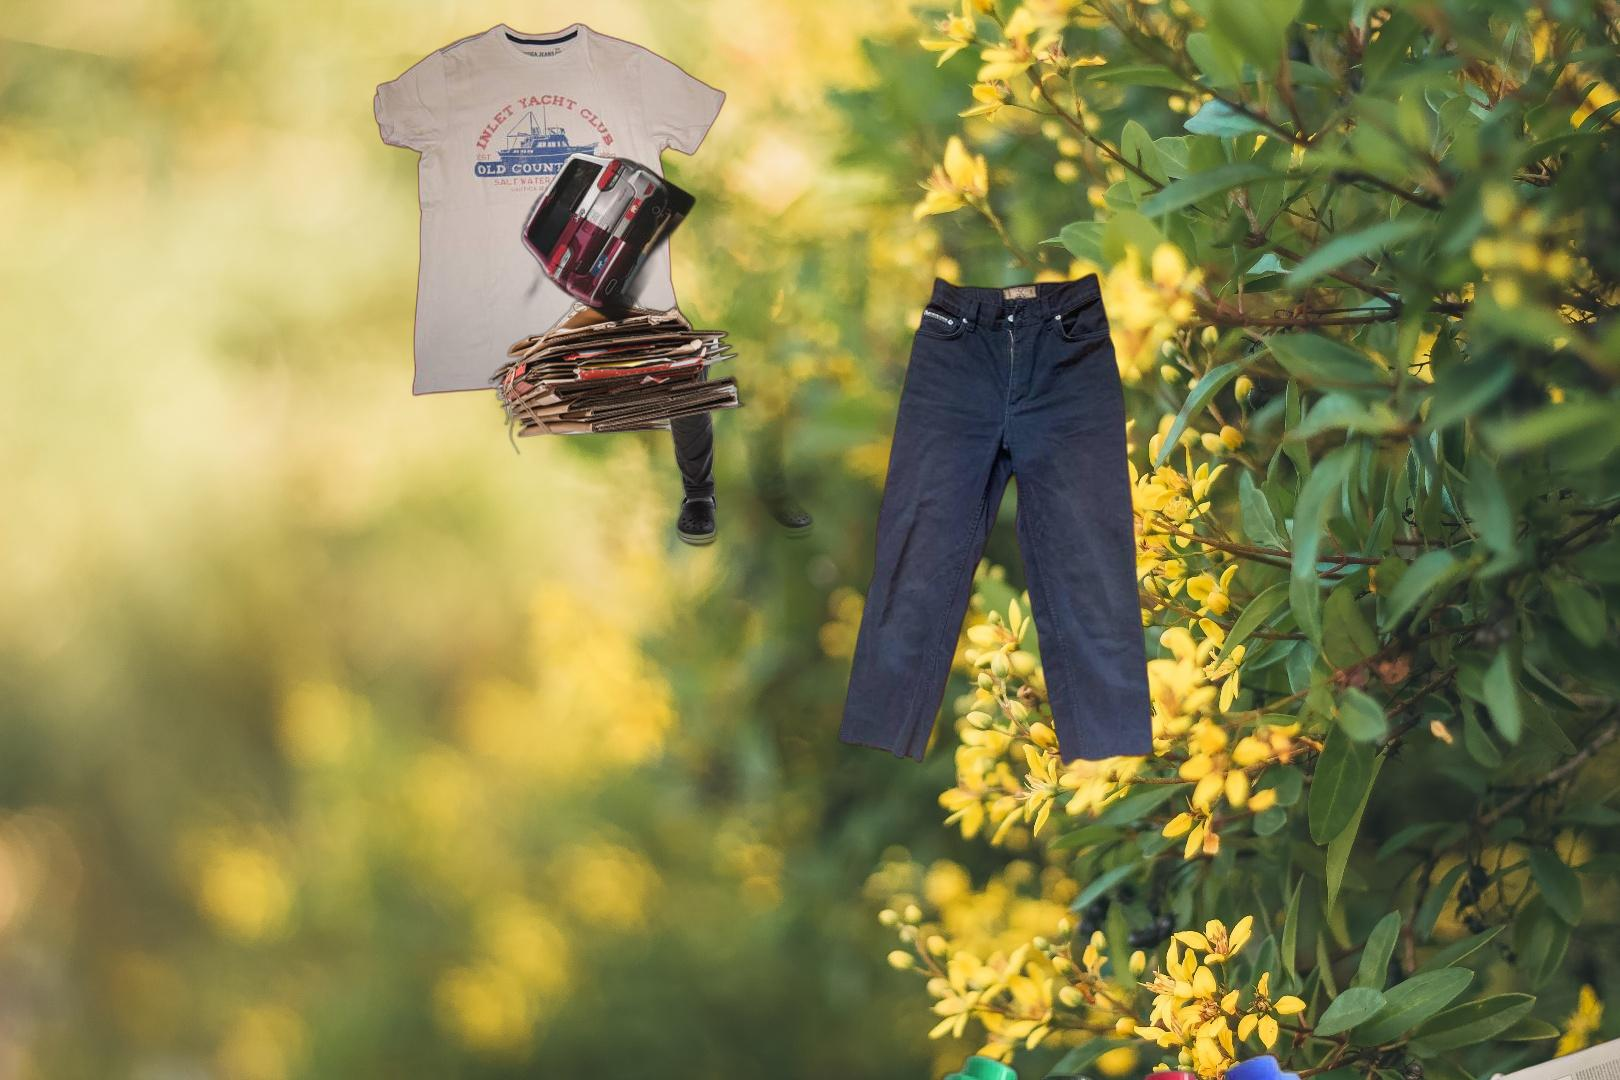clothes: (835, 259, 1157, 771), (371, 18, 729, 400)
paper: (507, 136, 702, 329), (1430, 997, 1620, 1080)
penholder: (708, 1049, 1530, 1080)
trashbox-cardboard: (485, 219, 818, 553)
